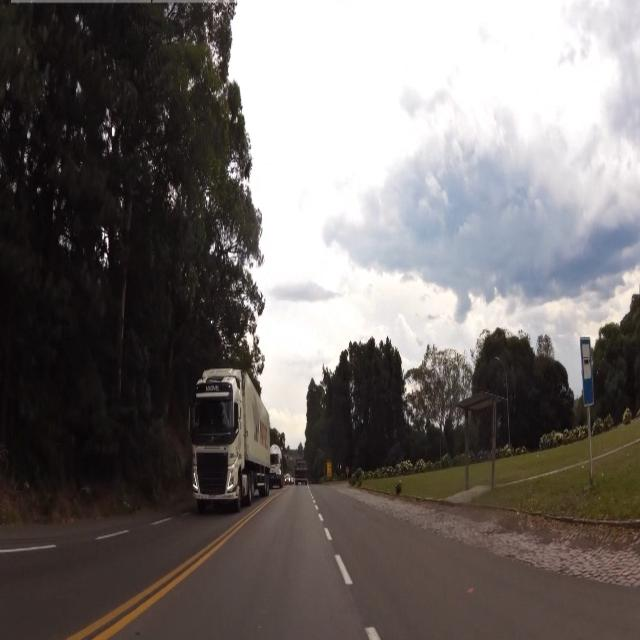S-14: (581, 335, 595, 404)
